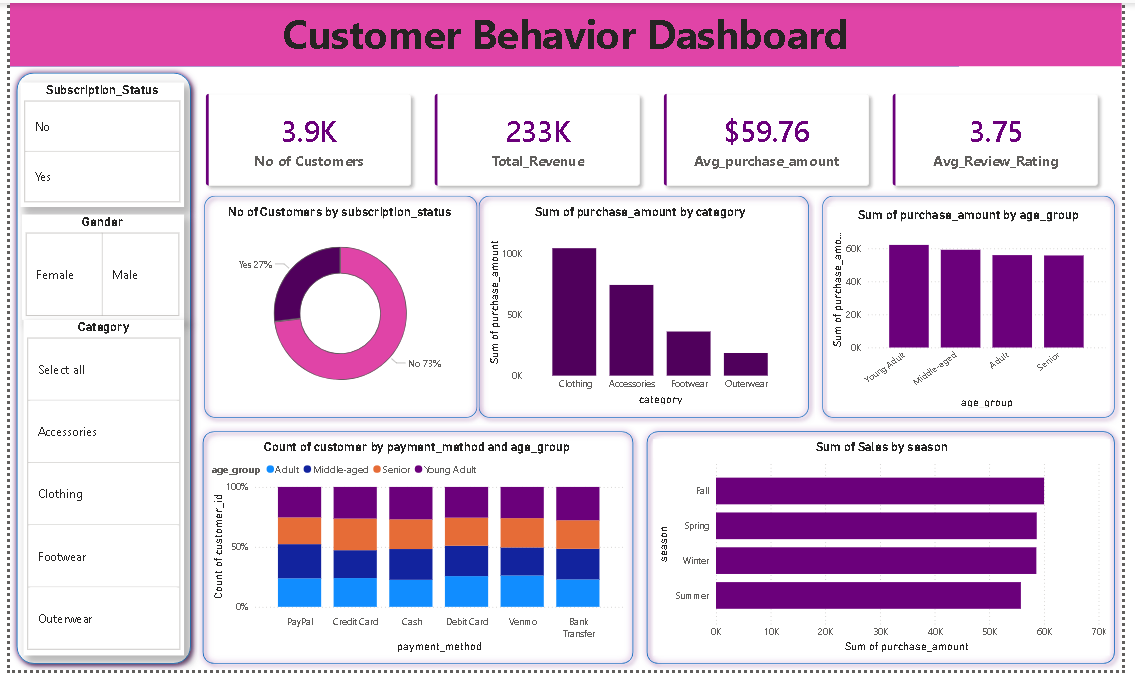

This screenshot's page, from the dashboard's own definition file:
{"tool":"powerbi","page":{"name":"Page 1","canvas":[1500,900],"ordinal":0},"visuals":[{"type":"cardVisual","fields":{"Data":["mydatabase customer.No of Customers","mydatabase customer.Total_Revenue","mydatabase customer.Avg_purchase_amount","mydatabase customer.Avg_Review_Rating"]},"box":[234.8,93.1,1265,182.2],"z":0},{"type":"shape","box":[0,0,1280.8,85.8],"z":1000},{"type":"textbox","box":[0,0,1499.8,85],"z":2000},{"type":"donutChart","fields":{"Category":["mydatabase customer.subscription_status"],"Y":["mydatabase customer.No of Customers"]},"box":[267.2,271.2,356.2,275.3],"z":3000},{"type":"columnChart","fields":{"Category":["mydatabase customer.category"],"Y":["Sum(mydatabase customer.purchase_amount)"]},"box":[639.6,271.2,421,275.3],"z":4000},{"type":"shape","box":[0,85,253,815.7],"z":5000},{"type":"advancedSlicerVisual","fields":{"Values":["mydatabase customer.subscription_status"]},"box":[14.2,107.3,220.6,168],"z":6000},{"type":"advancedSlicerVisual","fields":{"Values":["mydatabase customer.gender"]},"box":[16.2,285.4,218.6,141.7],"z":7000},{"type":"advancedSlicerVisual","fields":{"Values":["mydatabase customer.category"]},"box":[18.2,427.1,216.6,453.4],"z":8000},{"type":"shape","box":[253,251,386.6,317.8],"z":9000},{"type":"shape","box":[1086.9,251,412.9,317.8],"z":10000},{"type":"shape","box":[623.4,251,463.5,317.8],"z":11000},{"type":"clusteredColumnChart","fields":{"Category":["mydatabase customer.age_group"],"Y":["Sum(mydatabase customer.purchase_amount)"]},"box":[1103.1,275.3,380.5,275.3],"z":12000},{"type":"hundredPercentStackedColumnChart","title":"Count of customer by payment_method and age_group","fields":{"Category":["mydatabase customer.payment_method"],"Y":["CountNonNull(mydatabase customer.customer_id)"],"Series":["mydatabase customer.age_group"]},"box":[267.2,589,564.7,291.5],"z":13000},{"type":"shape","box":[251,568.8,599.1,331.9],"z":14000},{"type":"shape","box":[850.1,568.8,649.7,331.9],"z":15000},{"type":"clusteredBarChart","title":"Sum of Sales by season","fields":{"Category":["mydatabase customer.season"],"Y":["Sum(mydatabase customer.purchase_amount)"]},"box":[868.3,589,615.3,291.5],"z":16000}]}

Visuals, with their boxes in screenshot pixels (x1, y1, x2, y2), scaled from the page's 1500x900 canvas onto the 1135x677 screenshot:
cardVisual - mydatabase customer.No of Customers x mydatabase customer.Total_Revenue: <region>178, 70, 1134, 207</region>
shape: <region>0, 0, 969, 65</region>
textbox: <region>0, 0, 1134, 64</region>
donutChart - mydatabase customer.subscription_status x mydatabase customer.No of Customers: <region>202, 204, 472, 411</region>
columnChart - mydatabase customer.category x Sum(mydatabase customer.purchase_amount): <region>484, 204, 803, 411</region>
shape: <region>0, 64, 191, 676</region>
advancedSlicerVisual - mydatabase customer.subscription_status: <region>11, 81, 178, 207</region>
advancedSlicerVisual - mydatabase customer.gender: <region>12, 215, 178, 321</region>
advancedSlicerVisual - mydatabase customer.category: <region>14, 321, 178, 662</region>
shape: <region>191, 189, 484, 428</region>
shape: <region>822, 189, 1134, 428</region>
shape: <region>472, 189, 822, 428</region>
clusteredColumnChart - mydatabase customer.age_group x Sum(mydatabase customer.purchase_amount): <region>835, 207, 1123, 414</region>
"Count of customer by payment_method and age_group" hundredPercentStackedColumnChart: <region>202, 443, 629, 662</region>
shape: <region>190, 428, 643, 676</region>
shape: <region>643, 428, 1134, 676</region>
"Sum of Sales by season" clusteredBarChart: <region>657, 443, 1123, 662</region>
